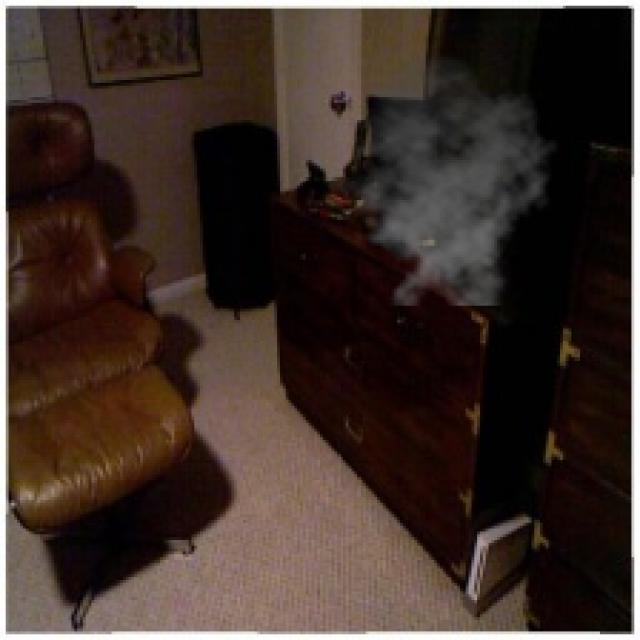Smoke: (328, 54, 560, 306)
